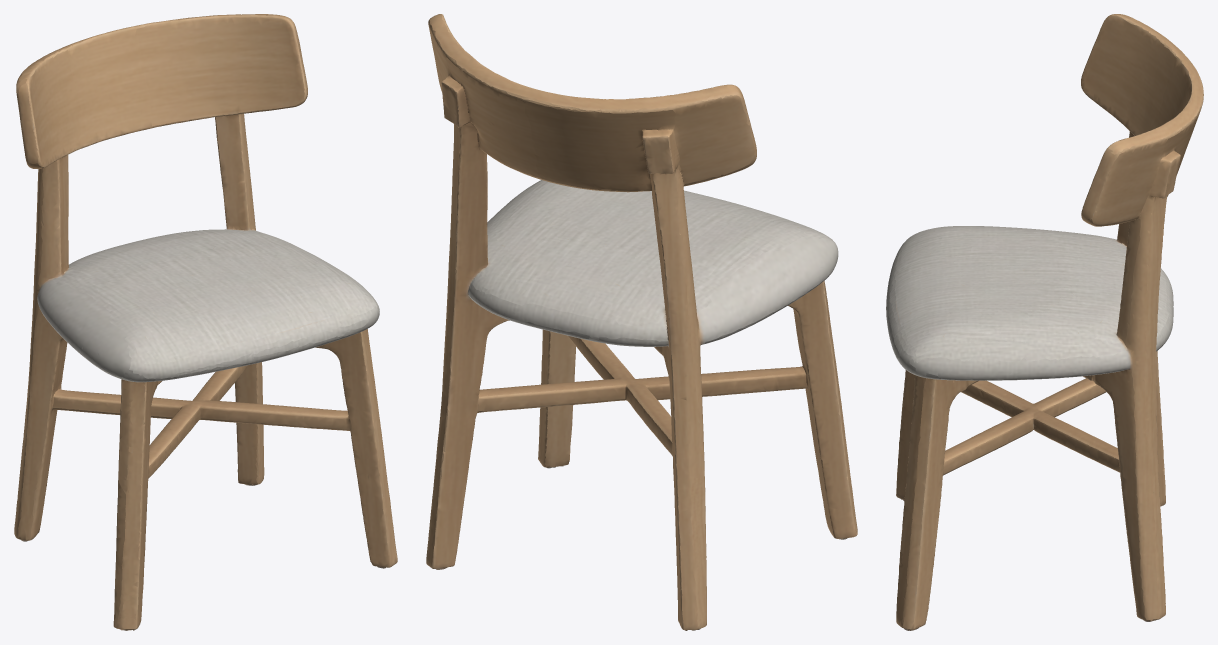
File: item_e3422256.glb
3 views of the same model, side by side, from view 1: azimuth 30°, elevation 25°; view 2: azimuth 150°, elevation 25°; view 3: azimuth 270°, elevation 25° (orthographic). The views are drawn at different scales.
Parts seen in each view (by area): view 1: world; view 2: world; view 3: world.
Boxes of the visible parts, bbox=[...] form: world: bbox=[14, 14, 397, 630]; world: bbox=[426, 14, 857, 630]; world: bbox=[886, 14, 1203, 630].
Bounding box in the file's own units: 0.5097 × 0.82 × 0.486.
1 material, 1 textured.
